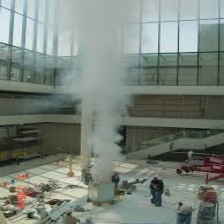smoke: (61, 1, 138, 185)
